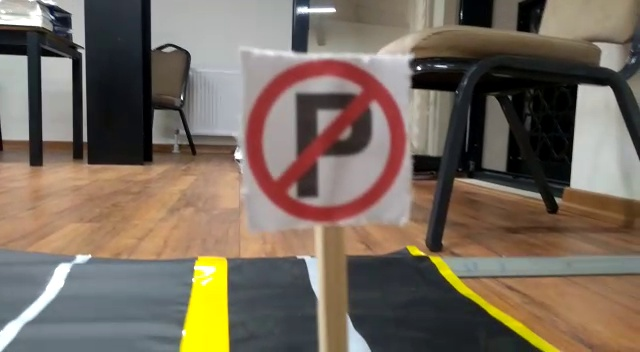park_yapilmaz: (243, 54, 408, 222)
